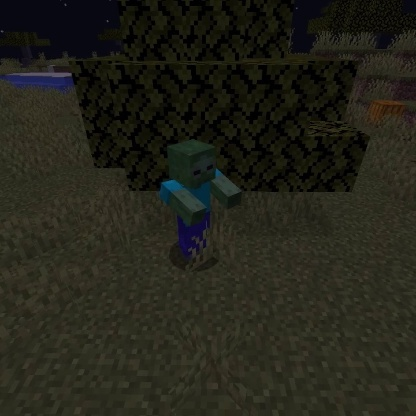zombie: (155, 136, 246, 268)
